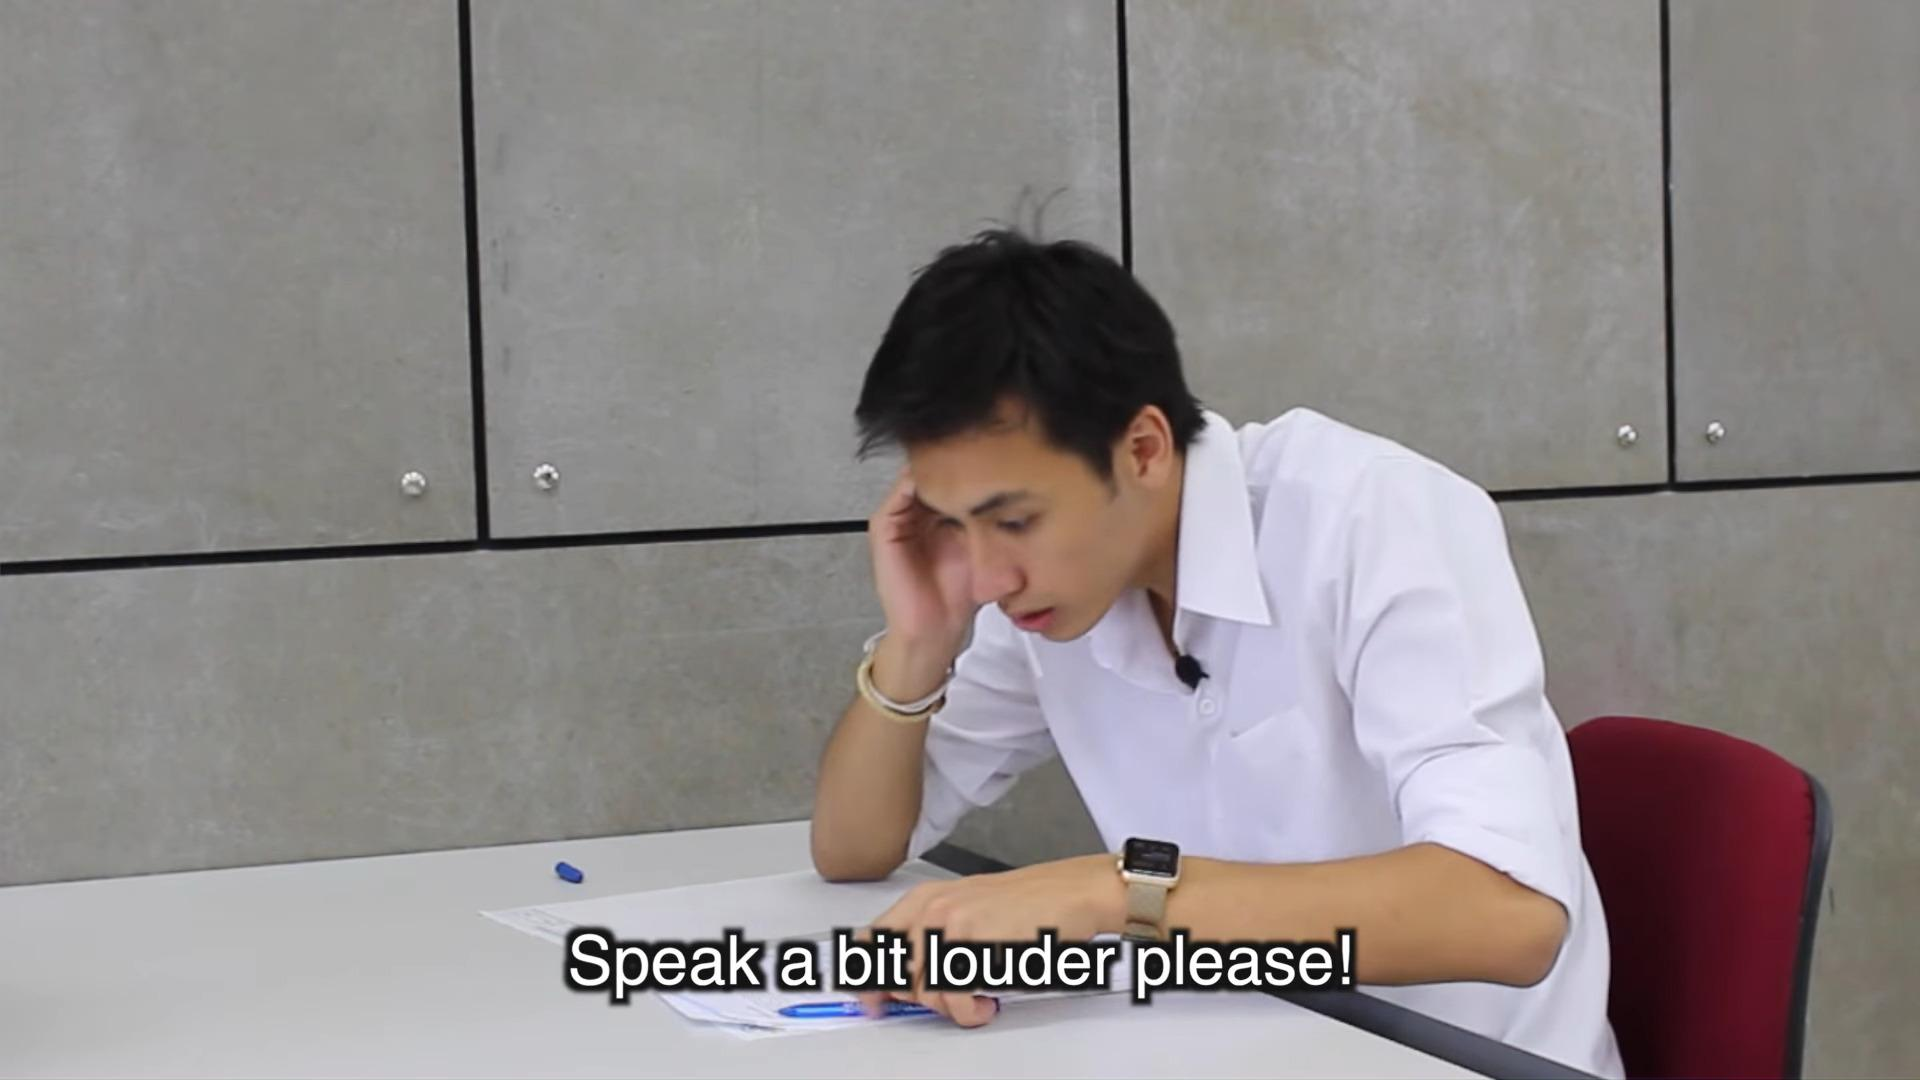good: (471, 206, 1633, 922)
